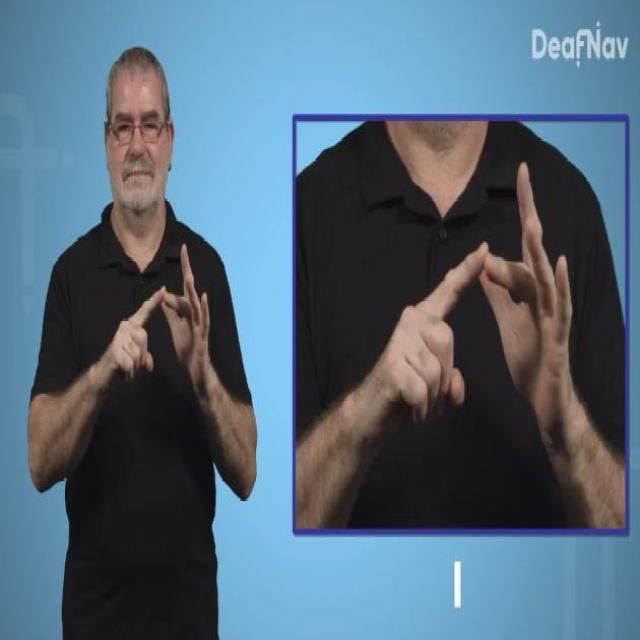I: (391, 161, 578, 434), (110, 238, 215, 390)
